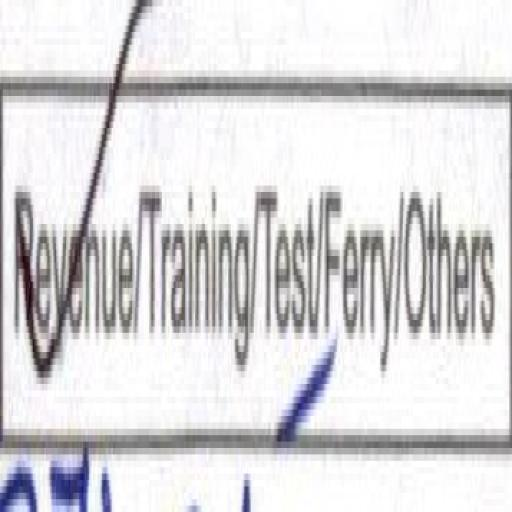check: (0, 6, 133, 441)
